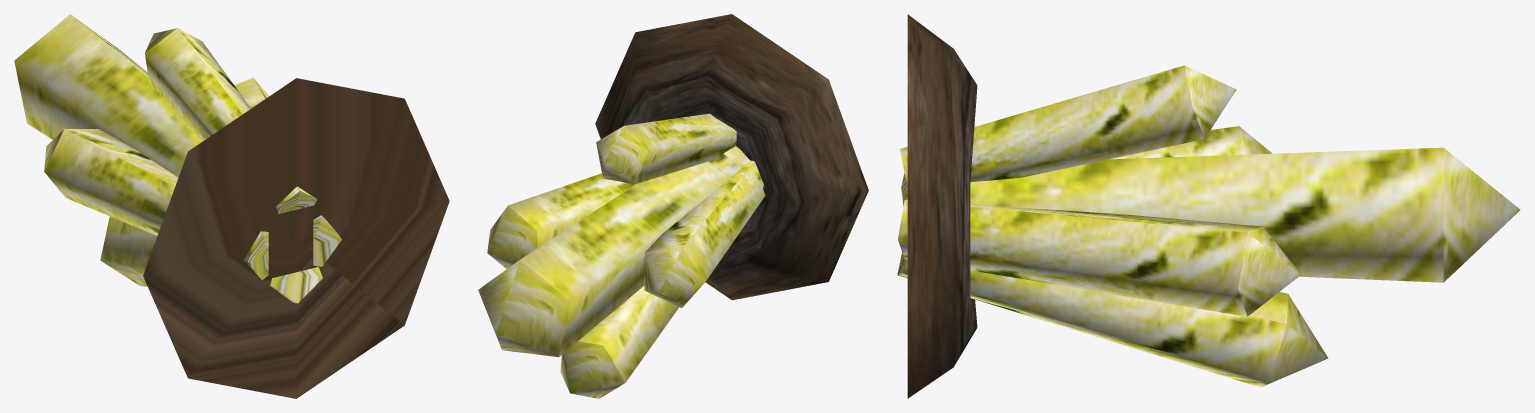
Rendered from crdan_4.FBX.
The picture shows the model from 3 angles, left to right: view 1: azimuth 30°, elevation 25°; view 2: azimuth 150°, elevation 25°; view 3: azimuth 270°, elevation 25°; orthographic projection. The views are drawn at different scales.
Visible parts, largest first — view 1: Box001; view 2: Box001; view 3: Box001.
Part boxes in pixels (<box>): Box001: <box>14,14,449,398</box>; Box001: <box>478,14,868,398</box>; Box001: <box>897,14,1520,398</box>.
Size of the model in its own units: 0.0542 by 0.0542 by 0.0826.
